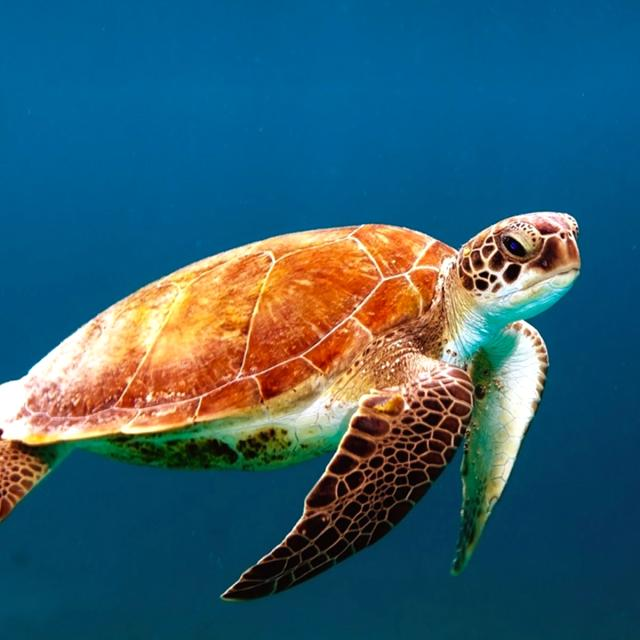Sea turtle: (0, 199, 601, 606)
